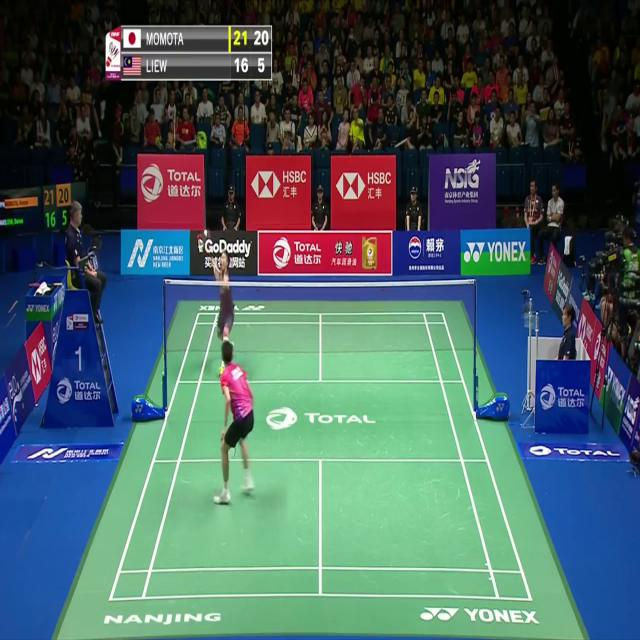Shuttlecock: (203, 225, 209, 237)
